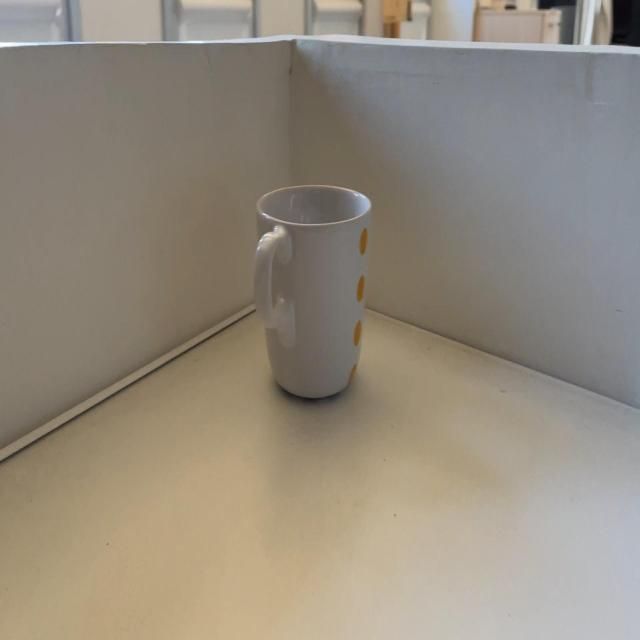cup: (254, 183, 372, 404)
